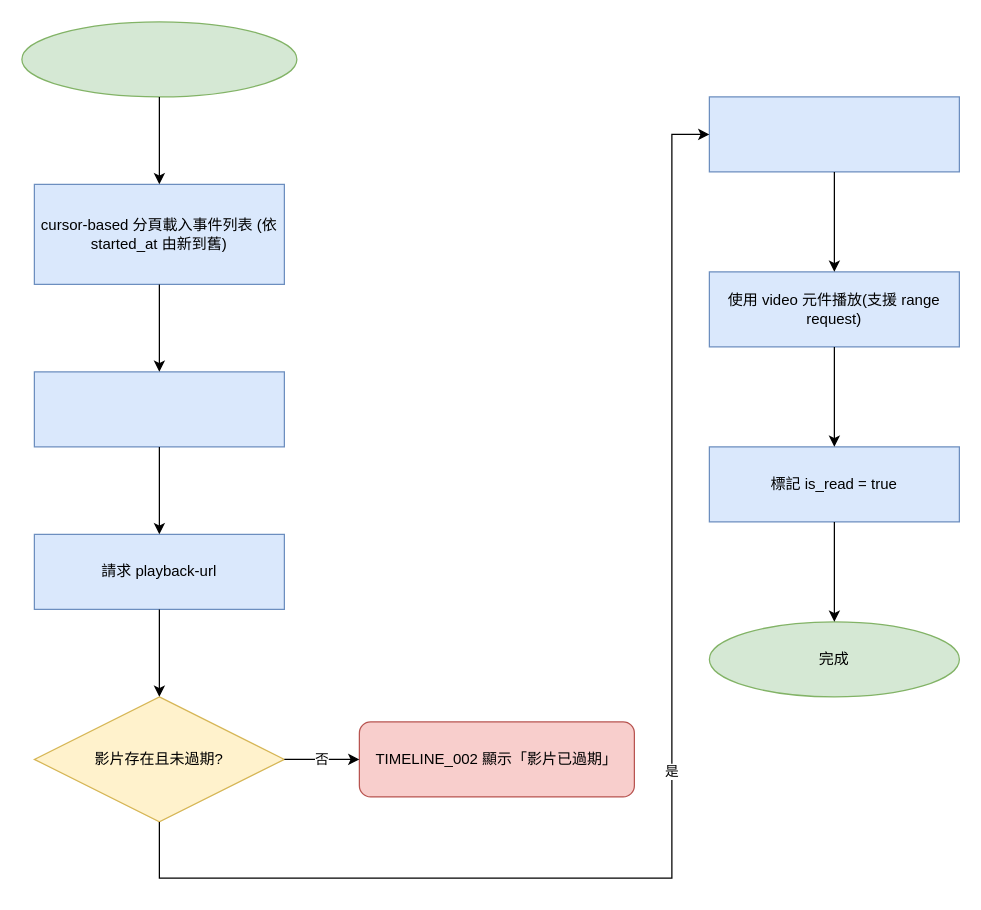
Some shapes in this 981 by 910 pixel diagram are drawn without their labels. The centre of each missing label's shape, as x and y in pixels:
使用者點擊某筆事件: point 158,409
換發 presigned URL(10 分鐘有效): point 833,134
開始(開啟時間軸頁): point 159,59
